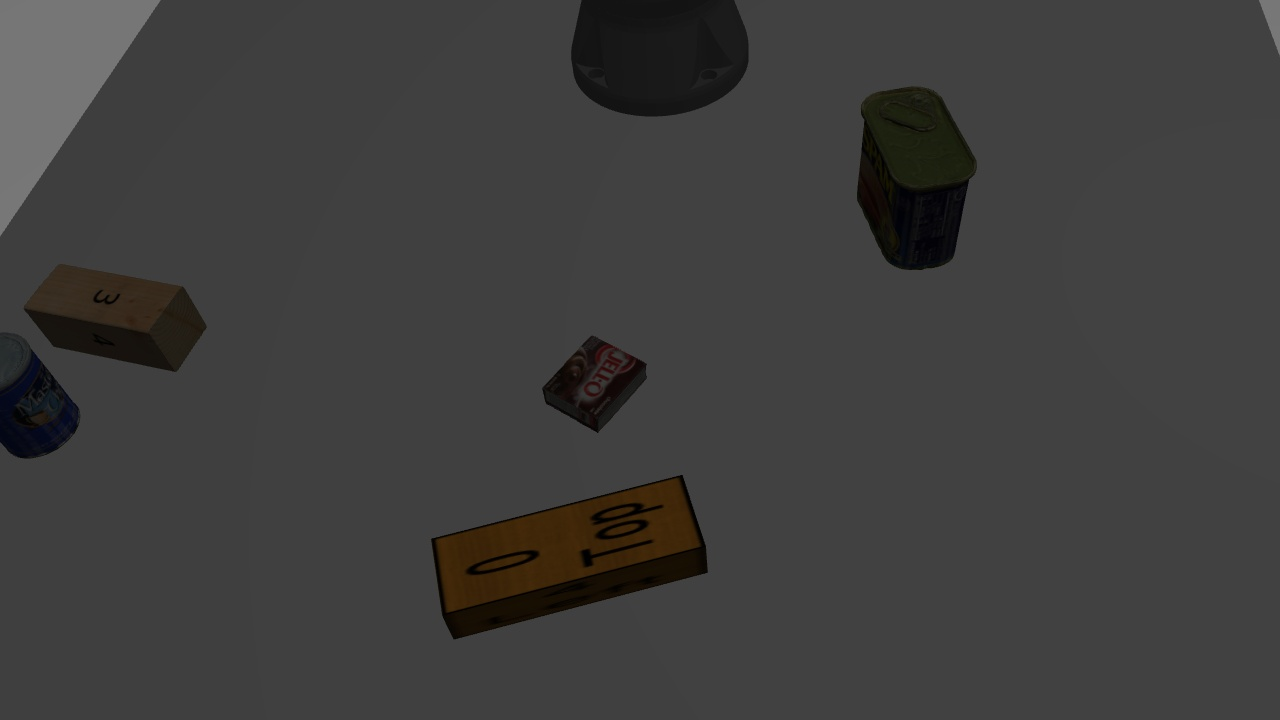jenga: (421, 476, 720, 632)
master_chef_can: (7, 334, 85, 457)
potted_meat_can: (847, 71, 975, 289)
pudding_box: (538, 333, 638, 433)
wood_block: (19, 257, 220, 374), (23, 249, 339, 305)
